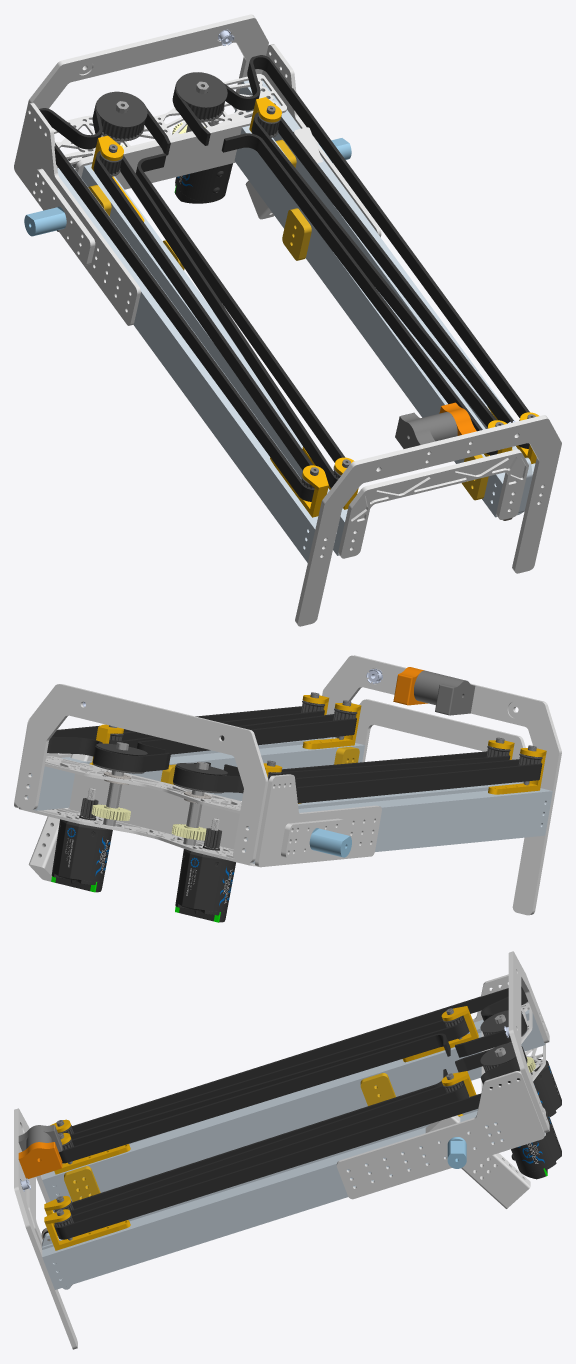
3 views of the same model, one above another, from view 1: azimuth 30°, elevation 25°; view 2: azimuth 150°, elevation 25°; view 3: azimuth 270°, elevation 25° (orthographic). The views are drawn at different scales.
Parts seen in each view (by area): view 1: 563T 5M 18mm Wide Belt (×2), Tube 2"x1"x24.25" (×2), Tube 2"x1"x27" (×2), Part 71, Part 70, Part 73, Part 44, 4255-25-P-0102-AL, 36t HTD Pulley 18.5mm Wide (×2), Part 28, Part 45, Kraken X60 Brushless Motor (+6 smaller); view 2: 563T 5M 18mm Wide Belt (×2), Part 70, Tube 2"x1"x27" (×2), Part 71, Kraken X60 Brushless Motor (×2), Part 44, 4255-25-P-0102-AL, Part 73, Tube 2"x1"x24.25" (×2), Part 75, Part 28, Part 27 (+9 smaller); view 3: 563T 5M 18mm Wide Belt (×2), Tube 2"x1"x27" (×2), Tube 2"x1"x24.25" (×2), 4255-25-P-0104-AL, Part 70, Part 66 (×3), Kraken X60 Brushless Motor (×2), 4255-25-P-0107-PPACF, Part 71, Part 74, Part 61, Part 62 (+4 smaller).
Part boxes in pixels (bbox=[...]): 563T 5M 18mm Wide Belt (×2): bbox=[39, 55, 529, 501]; Tube 2"x1"x24.25" (×2): bbox=[81, 125, 505, 555]; Tube 2"x1"x27" (×2): bbox=[57, 80, 535, 562]; Part 71: bbox=[295, 415, 561, 626]; Part 70: bbox=[28, 14, 268, 109]; Part 73: bbox=[338, 449, 528, 558]; Part 44: bbox=[14, 102, 140, 325]; 4255-25-P-0102-AL: bbox=[75, 119, 251, 189]; 36t HTD Pulley 18.5mm Wide (×2): bbox=[96, 72, 227, 141]; Part 28: bbox=[52, 74, 286, 167]; Part 45: bbox=[31, 168, 95, 265]; Kraken X60 Brushless Motor: bbox=[174, 119, 232, 203]; 563T 5M 18mm Wide Belt (×2): bbox=[47, 706, 542, 803]; Part 70: bbox=[15, 684, 268, 862]; Tube 2"x1"x27" (×2): bbox=[27, 738, 552, 863]; Part 71: bbox=[322, 655, 561, 915]; Kraken X60 Brushless Motor (×2): bbox=[51, 788, 235, 922]; Part 44: bbox=[255, 774, 381, 867]; 4255-25-P-0102-AL: bbox=[69, 763, 241, 849]; Part 73: bbox=[355, 699, 525, 783]; Tube 2"x1"x24.25" (×2): bbox=[125, 743, 521, 808]; Part 75: bbox=[414, 670, 475, 715]; Part 28: bbox=[44, 756, 241, 813]; Part 27: bbox=[19, 807, 255, 866]; 563T 5M 18mm Wide Belt (×2): bbox=[54, 986, 527, 1239]; Tube 2"x1"x27" (×2): bbox=[42, 1010, 545, 1289]; Tube 2"x1"x24.25" (×2): bbox=[42, 1032, 481, 1241]; 4255-25-P-0104-AL: bbox=[336, 1071, 544, 1199]; Part 70: bbox=[508, 951, 549, 1132]; Part 66 (×3): bbox=[44, 1006, 478, 1250]; Kraken X60 Brushless Motor (×2): bbox=[511, 1058, 561, 1179]; 4255-25-P-0107-PPACF: bbox=[425, 1115, 530, 1208]; Part 71: bbox=[14, 1108, 77, 1349]; Part 74: bbox=[18, 1142, 62, 1178]; Part 61: bbox=[64, 1166, 100, 1201]; Part 62: bbox=[360, 1073, 395, 1105].
Bounding box in the file's own units: 0.4064 × 0.4552 × 0.7235.
